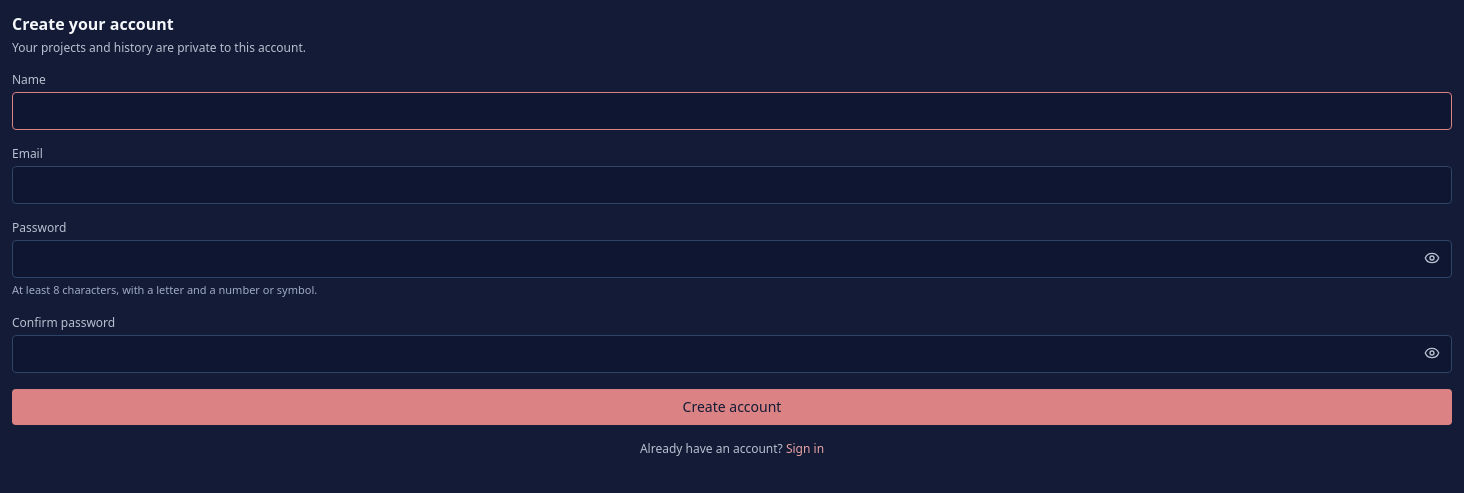
Scenario: RegisterForm › registers and reports a taken email on the email field
Type " Ada " into the field labelled "Name".
click(732, 111); type(" Ada ")  # box [12,92,1452,130]
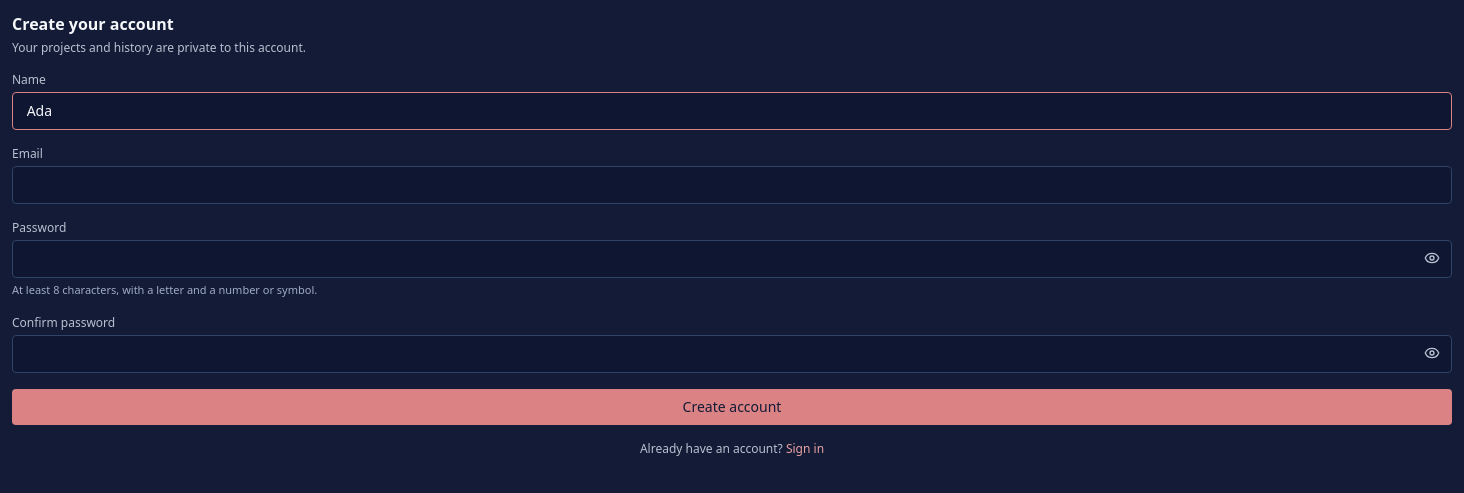
Type "Ada@Example.com" into the field labelled "Email".
click(732, 185); type("Ada@Example.com")  # box [12,166,1452,204]
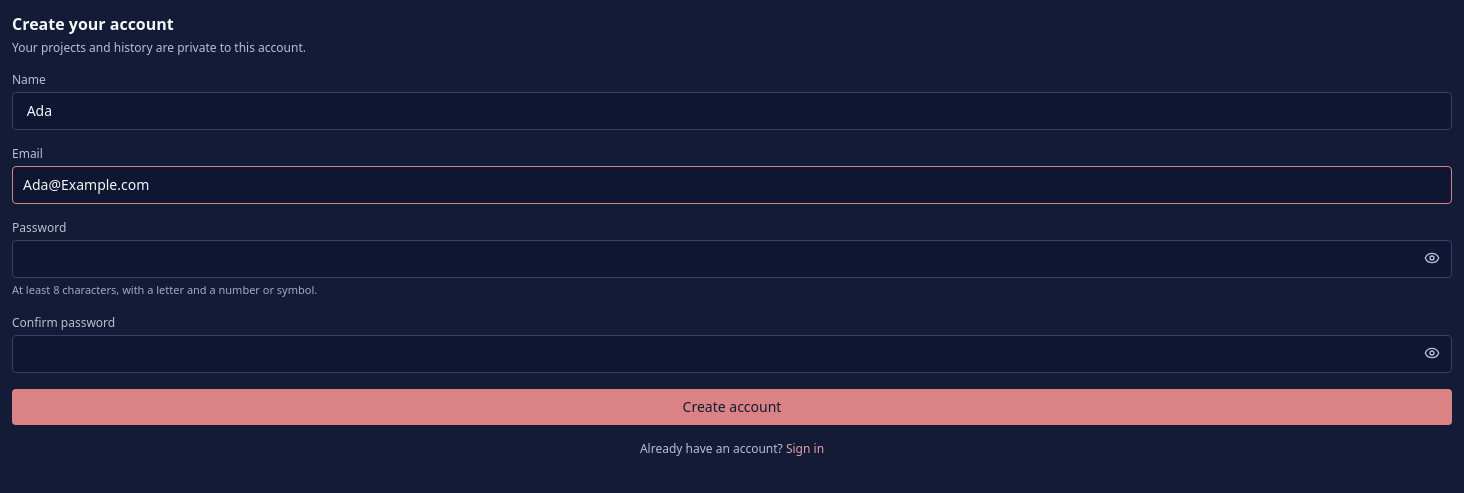
Type "correct-horse-7" into the password field labelled "Password".
click(732, 259); type("correct-horse-7")  # box [12,240,1452,278]
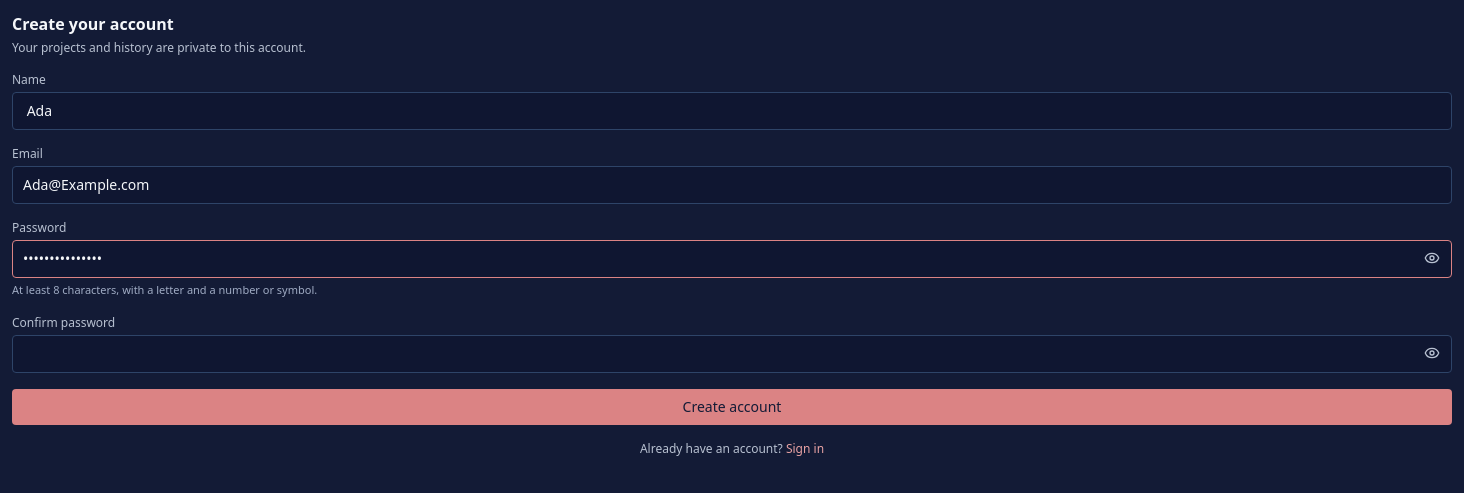
Type "correct-horse-7" into the password field labelled "Confirm password".
click(732, 354); type("correct-horse-7")  # box [12,334,1452,372]
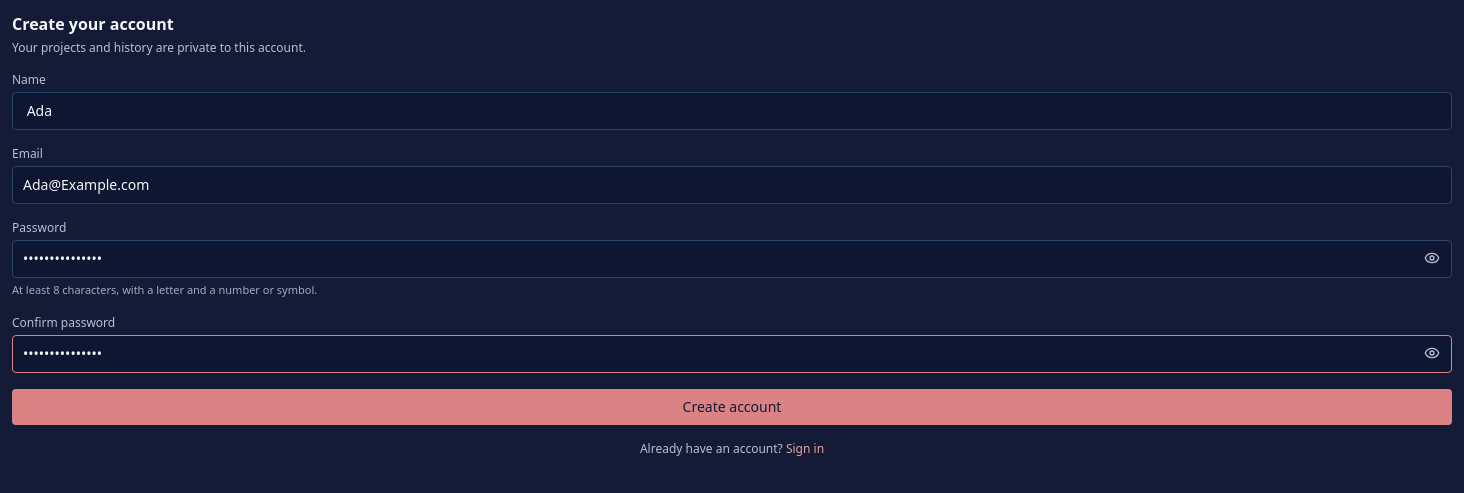
Click the button "Create account".
click(732, 406)  # box [12,388,1452,424]
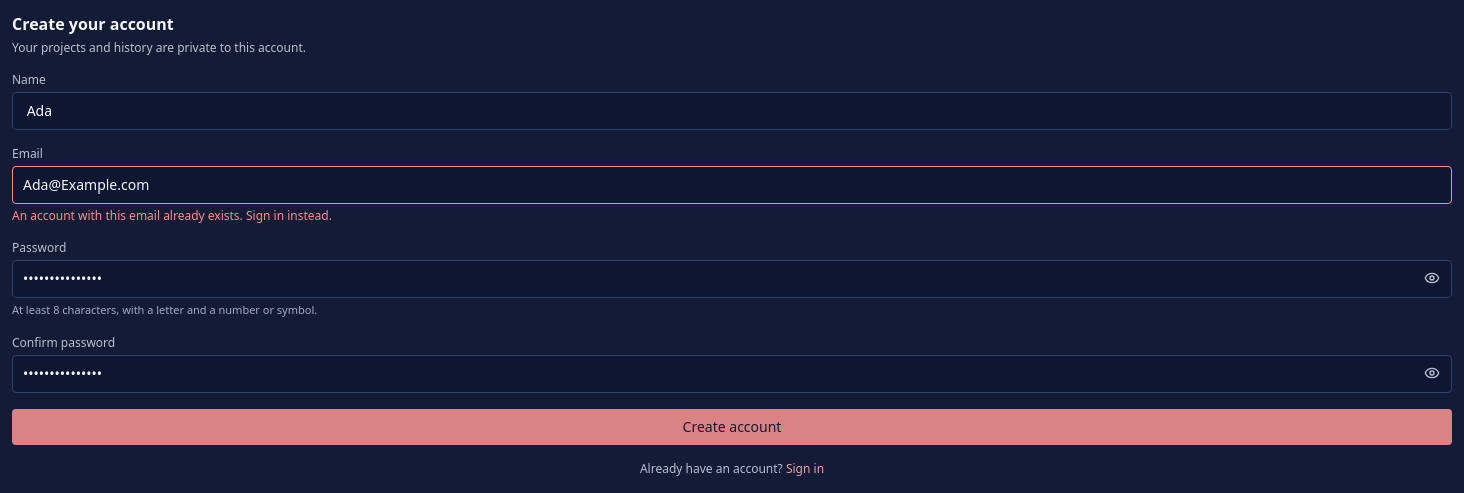
Expected: the text "An account with this email already exists. Sign in instead." is shown, [12,207,332,224]
